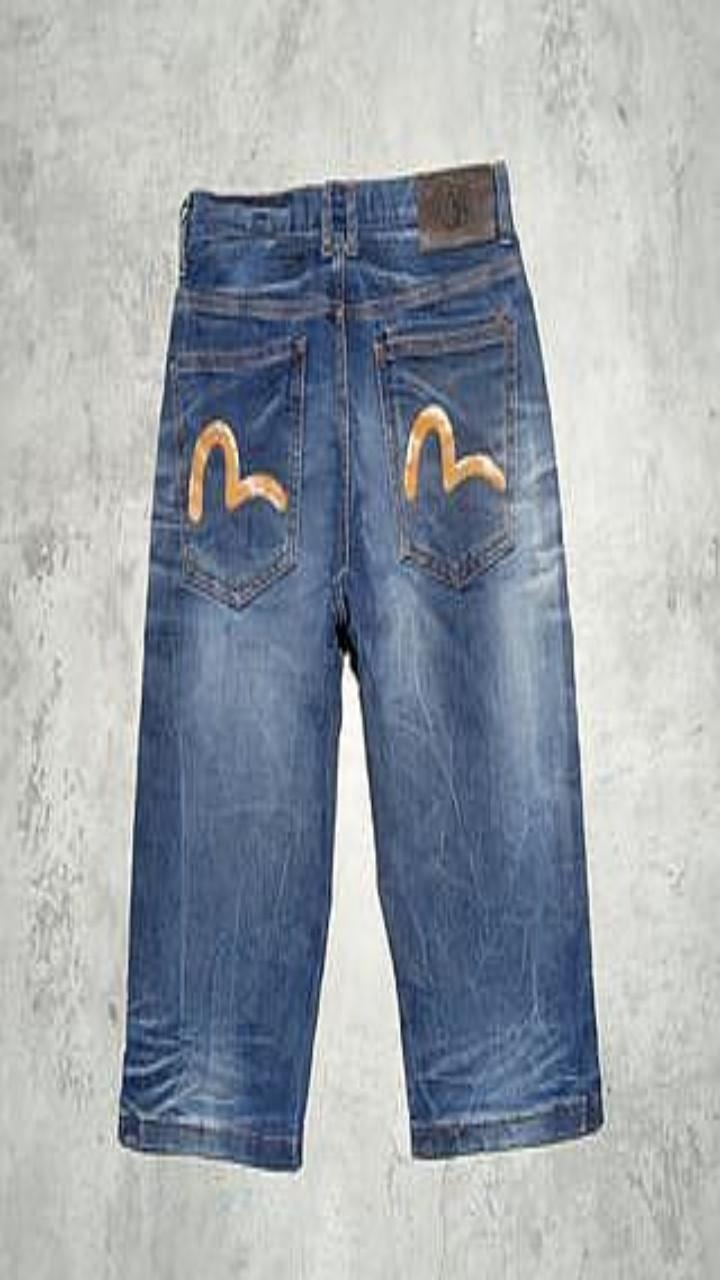Shorts: (118, 160, 602, 1168)
